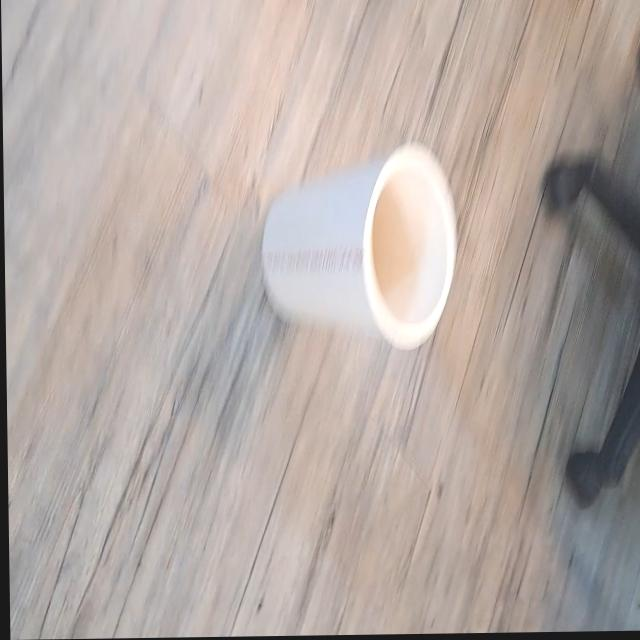CORAL: (256, 139, 461, 356)
